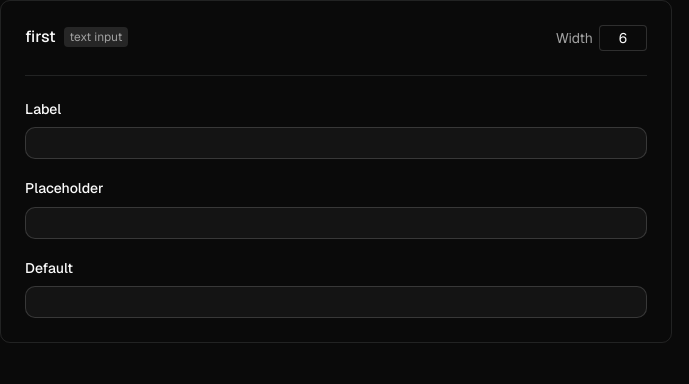
Test case: ConfigPanel › contact text fields › show an error for a width that isn't a number, rather than unsetting it
Clear the number field. click: (623, 38)
box: [599, 25, 647, 51]
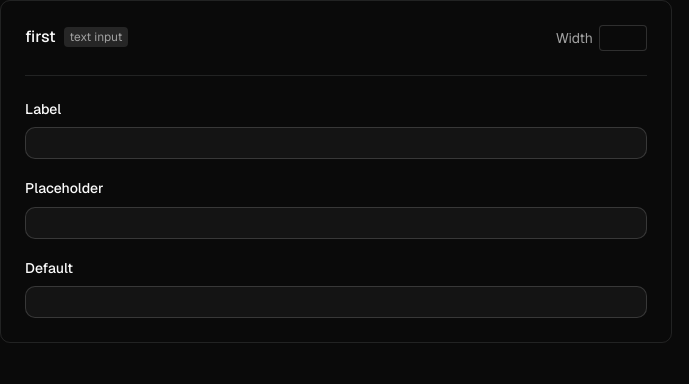
Leave the number field, box [599, 25, 647, 51]
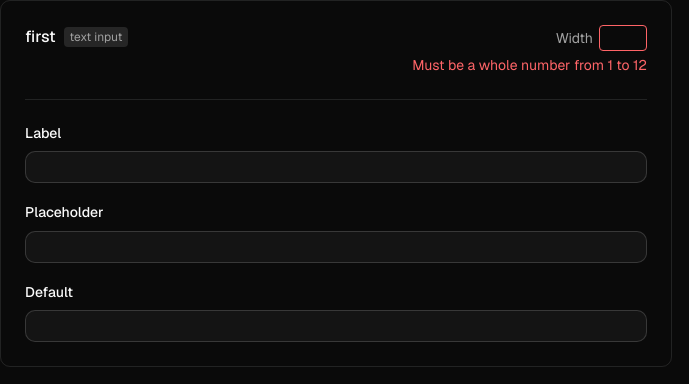
Now the text "Must be a whole number from 1 to 12" is shown, box [412, 55, 647, 75]
